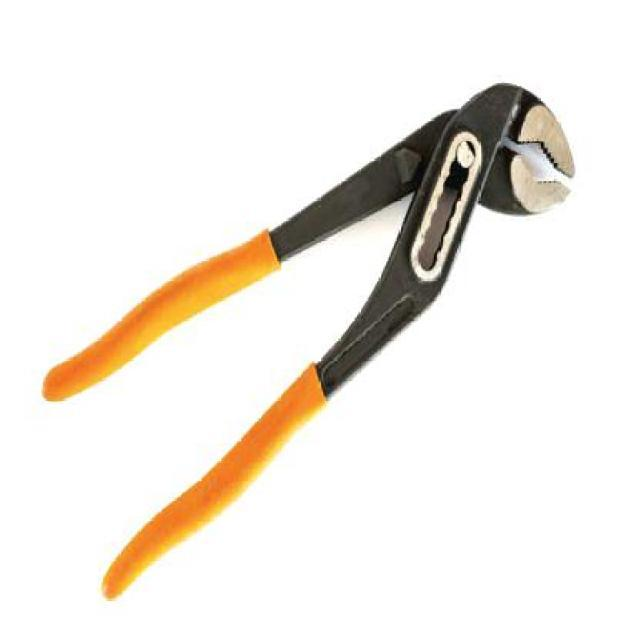pliers: (41, 66, 578, 600)
